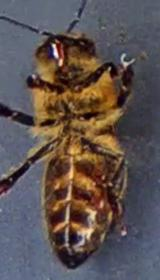varroa_mite: (88, 184, 114, 213)
